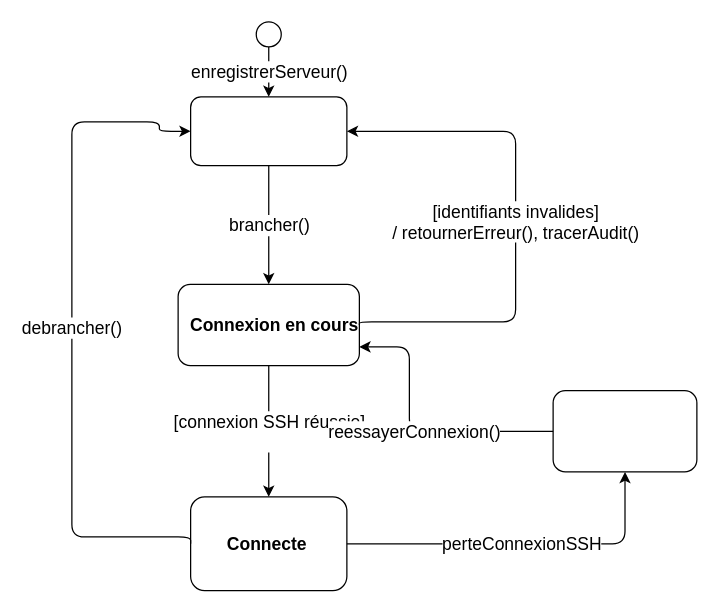
Image size: 719x613. Some labels were removed from this diagram. The shapes that lost their labels are listed below. From the top down, each one's box as (x1, y1, x2, y2) in pixels, then its label:
(189, 96, 347, 166): Non connecte
(552, 389, 697, 472): Inaccessible
